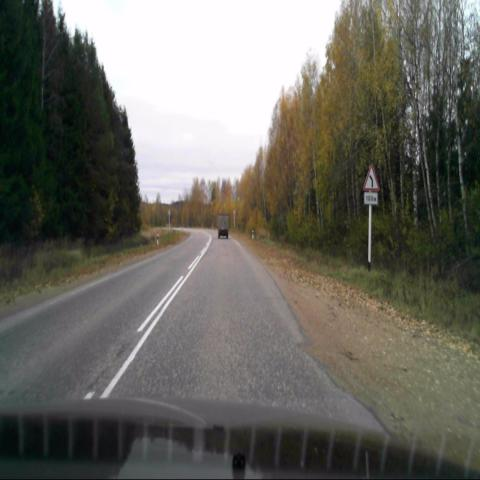1_11_1: (363, 164, 379, 191)
